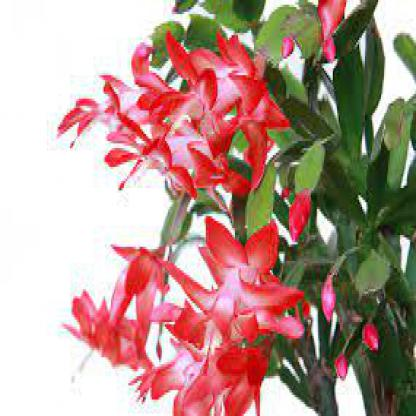Aglonema: (25, 111, 379, 356)
